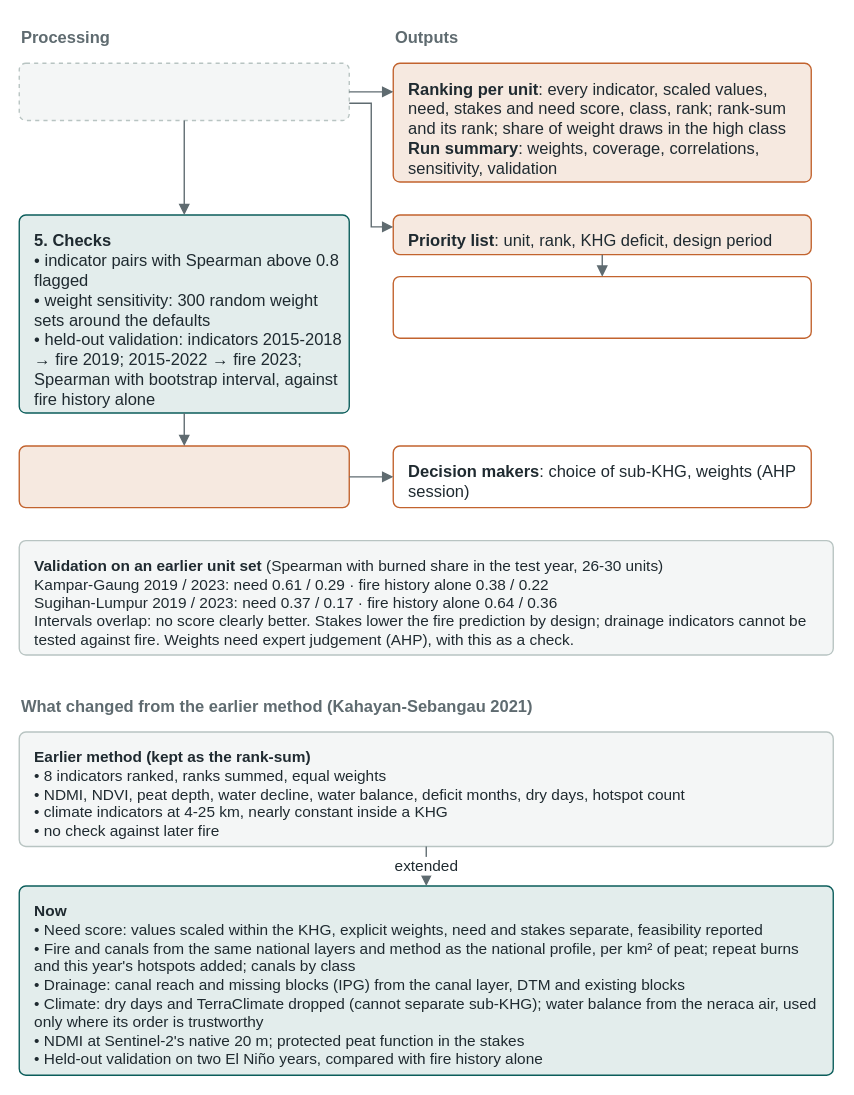
Some shapes in this 854 by 1095 pixel diagram are drawn without their labels. Each missing label, with the centre of its shape:
"4. Score need score, classes, rank-sum" belongs at point (183, 91).
"RE-PEAT Interventions : canal blocks and pumping, in rank order" belongs at point (601, 306).
"Reports : run report, map page, validation report" belongs at point (183, 476).
